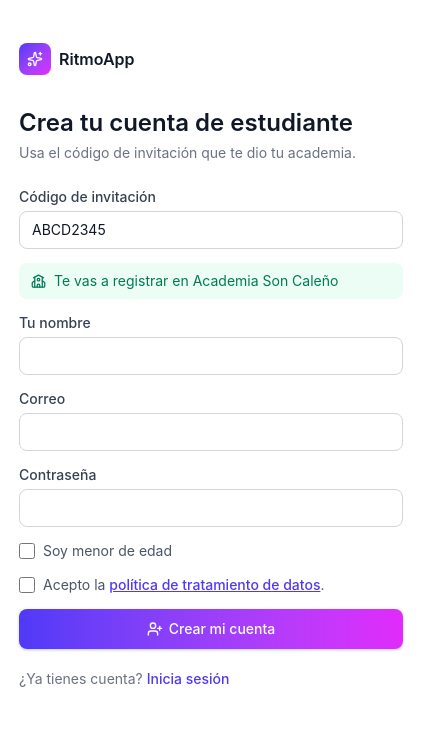
Scenario: HU-22: registro de estudiantes con código de invitación (pantallas) › CP-232 · HU-22-CA-03: si es menor de edad pide y envía la autorización de su representante
The image size is (422, 731).
Expected: the text "Te vas a registrar en Academia Son Caleño" is shown, x1=19 y1=263 x2=403 y2=299
Expected: the checkbox labelled "representante legal" is not shown
Type "Sara Ríos" into the field labelled "Tu nombre" at (211, 356), box x1=19 y1=337 x2=403 y2=375
Type "sara@estudiante.test" into the field labelled "Correo" at (211, 432), box x1=19 y1=413 x2=403 y2=451
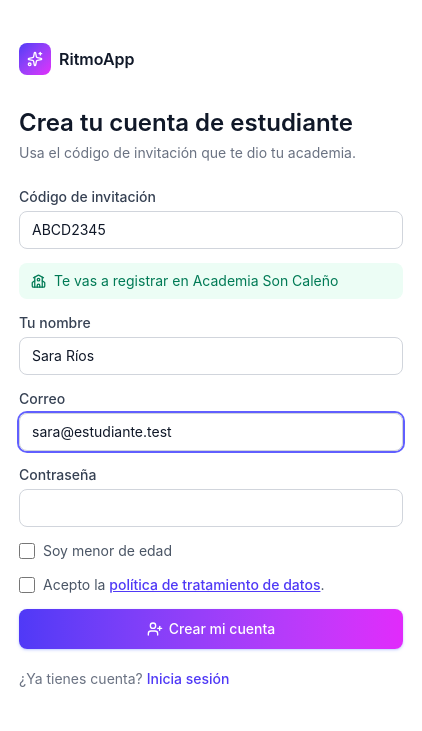
Type "Prueba123!" into the password field labelled "Contraseña" at (211, 508), box x1=19 y1=489 x2=403 y2=527
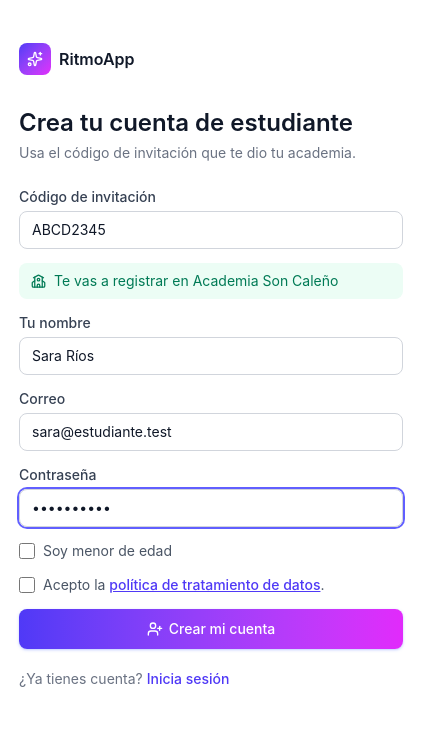
Click the checkbox labelled "Soy menor de edad" at (27, 551), box x1=19 y1=543 x2=35 y2=559
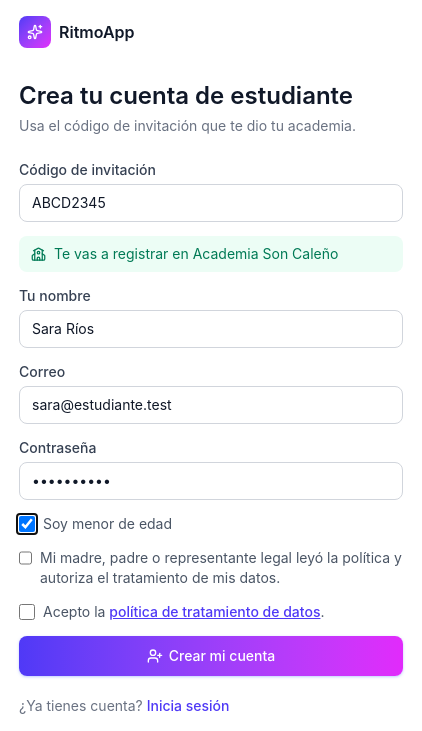
Click the checkbox labelled "representante legal" at (26, 558), box x1=19 y1=550 x2=32 y2=566
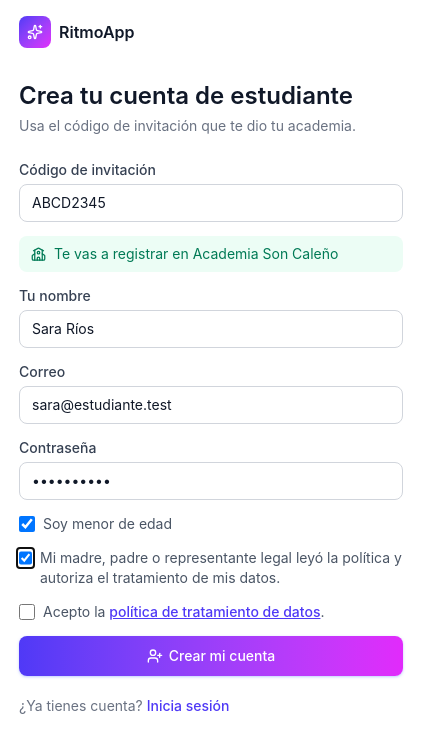
Click the checkbox labelled "Acepto la política de tratamiento de datos ." at (27, 612), box x1=19 y1=604 x2=35 y2=620
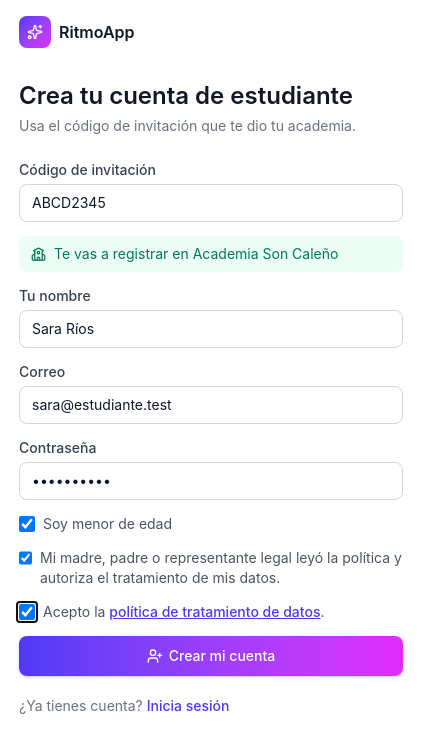
Click the button "Crear mi cuenta" at (211, 656), box x1=19 y1=636 x2=403 y2=676
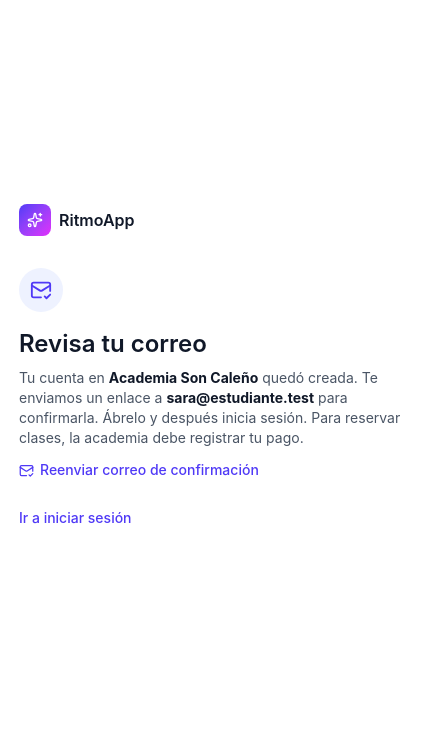
Expected: the heading "Revisa tu correo" is shown, x1=19 y1=328 x2=207 y2=358
